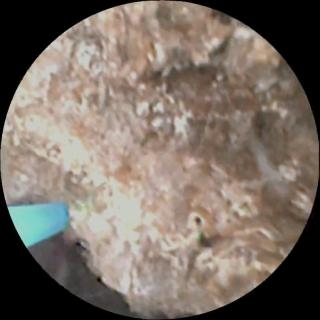fiber: (8, 204, 66, 246)
stone: (4, 3, 314, 316)
